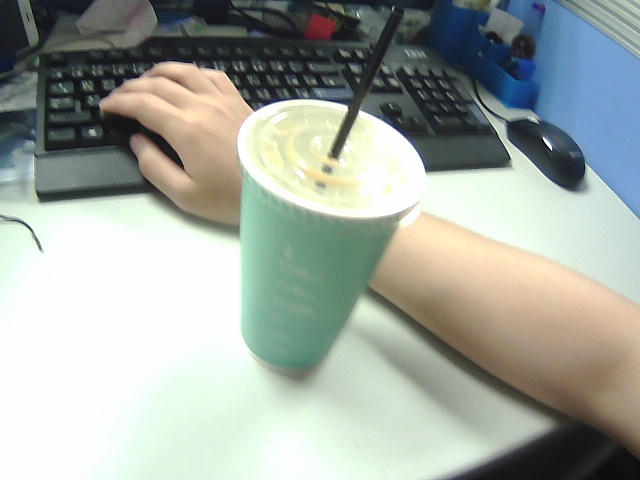beverage: (234, 6, 433, 393)
